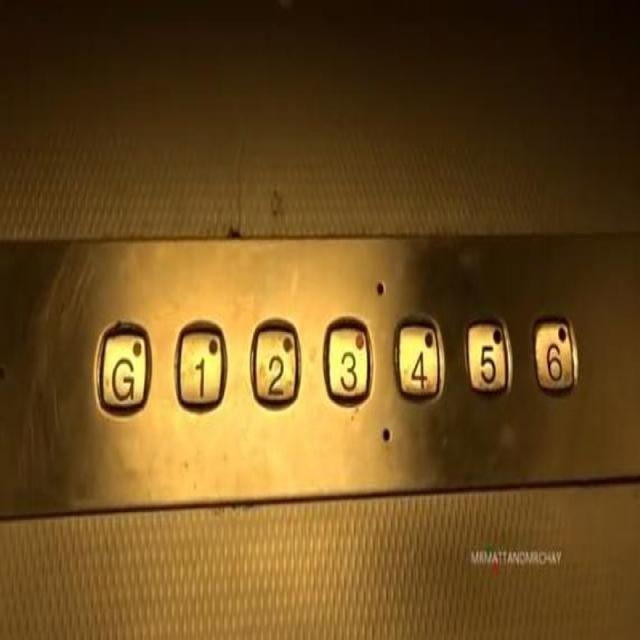1: (169, 308, 230, 421)
2: (244, 311, 304, 416)
3: (315, 308, 376, 415)
4: (387, 305, 448, 412)
5: (459, 307, 514, 404)
6: (526, 305, 580, 403)
G: (89, 312, 154, 424)
